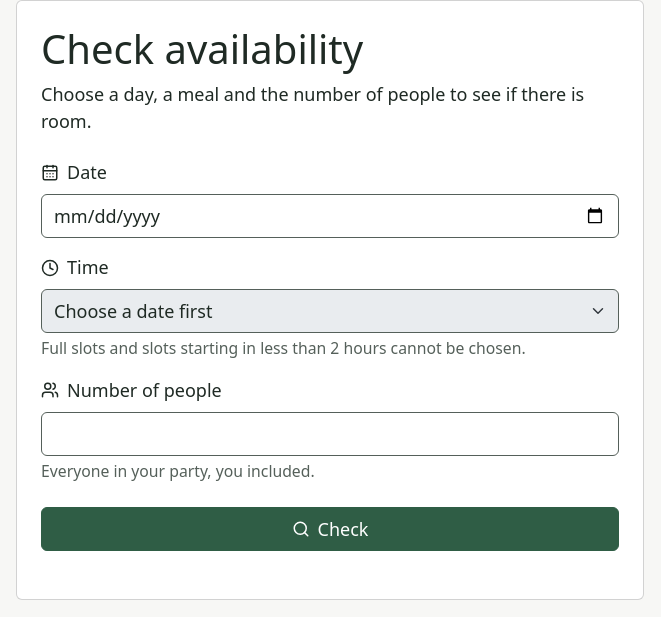
CheckAvailabilityPage – edge cases › ignores an answer that arrives after the form has changed
In the date field labelled "Date": (330, 216) x1=41 y1=194 x2=619 y2=238, type "2026-11-03"
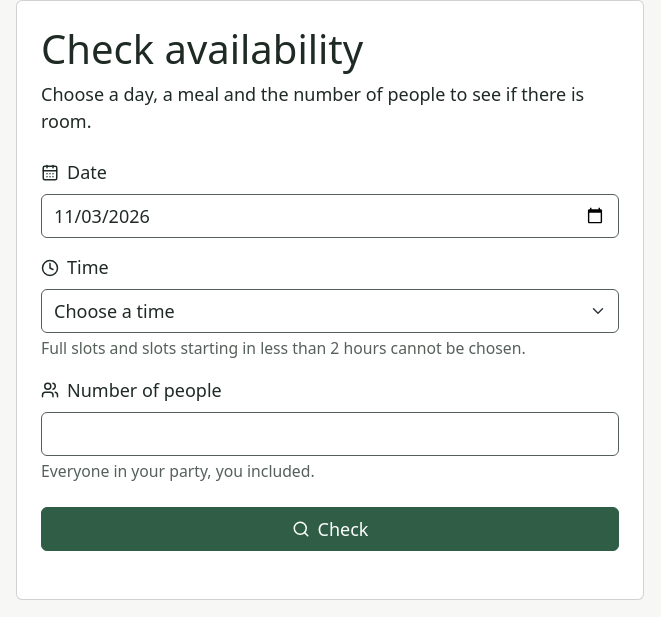
Now the dropdown labelled "Time" is enabled
Select "Dinner, 19:00 – 20:30" in the dropdown labelled "Time": (330, 311) x1=41 y1=289 x2=619 y2=333
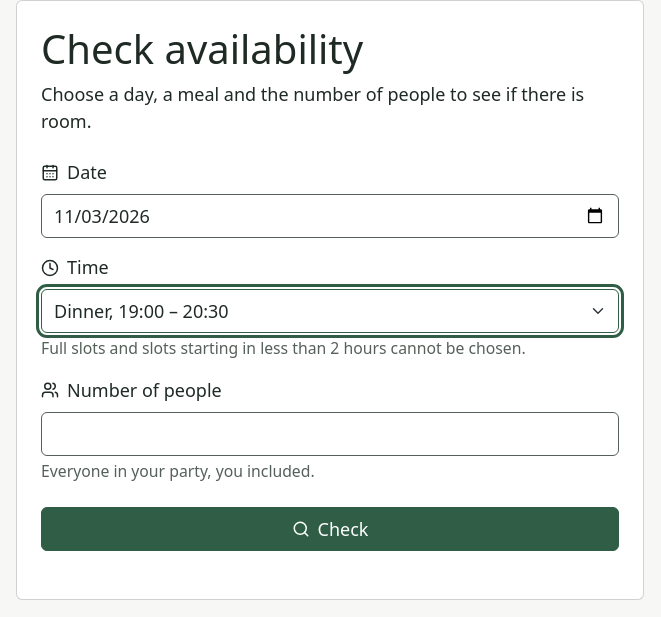
In the number field labelled "Number of people": (330, 434) x1=41 y1=412 x2=619 y2=456, type "4"
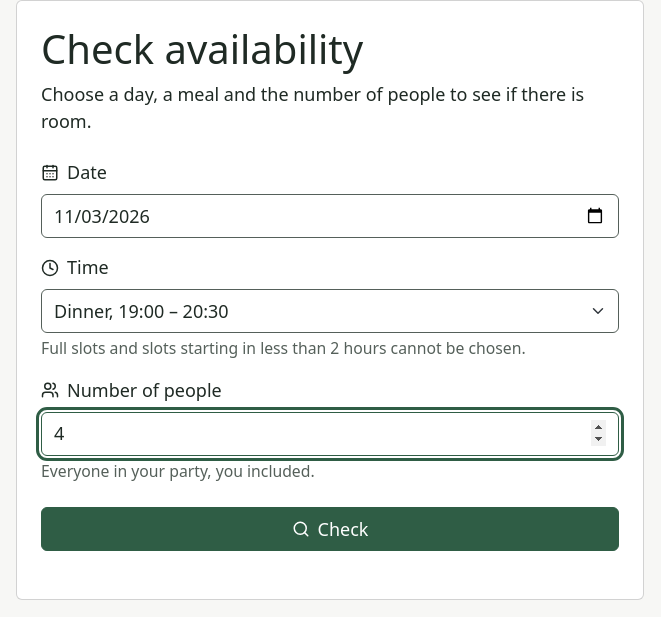
Click the button "Check": click(330, 529) x1=41 y1=507 x2=619 y2=551
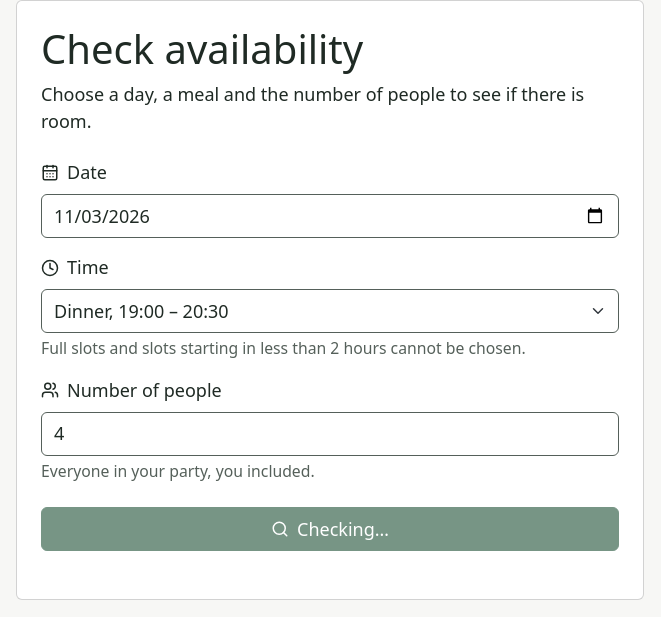
In the number field labelled "Number of people": (330, 434) x1=41 y1=412 x2=619 y2=456, type "0"
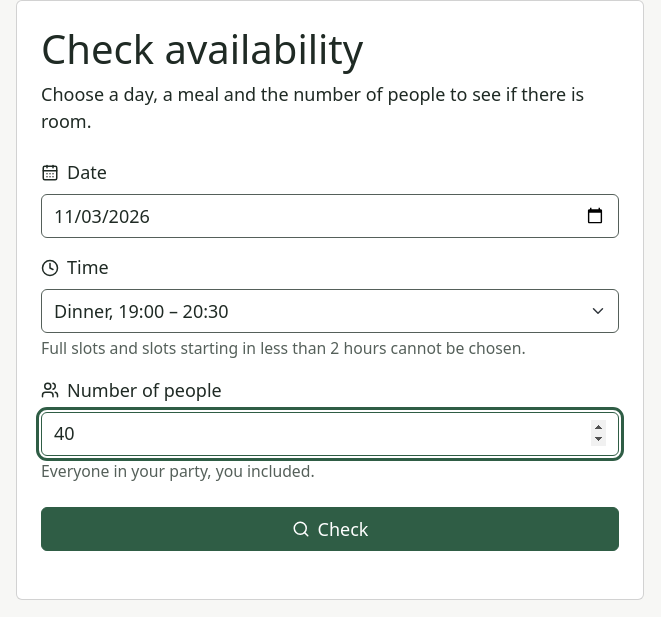
Now the button "Check" is enabled, box x1=41 y1=507 x2=619 y2=551
